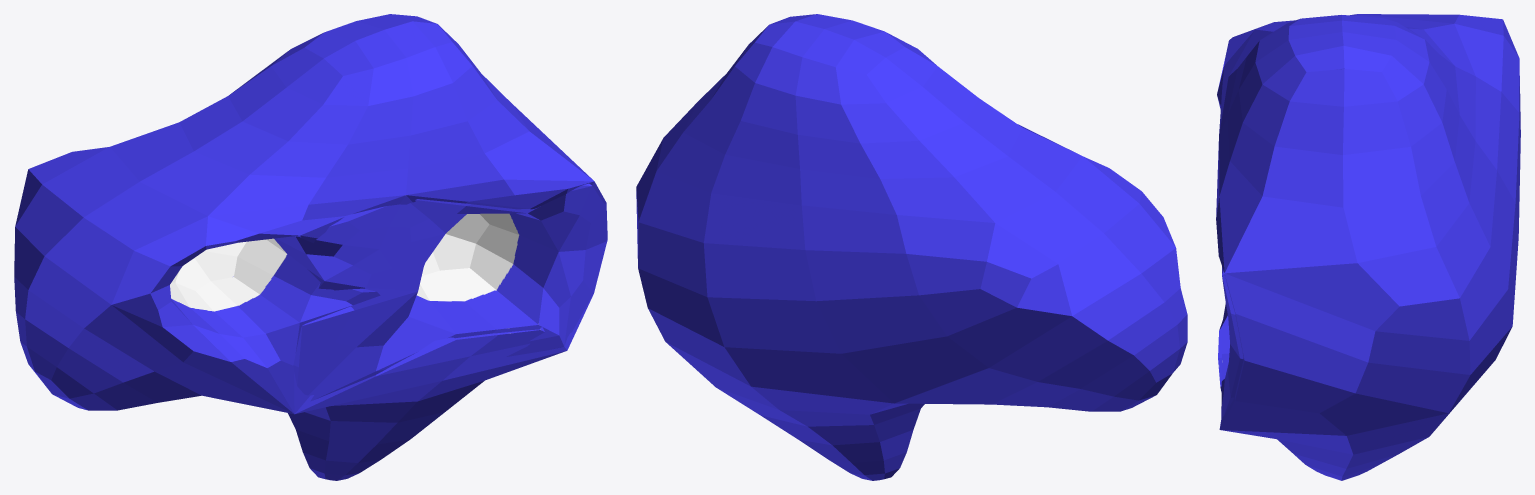
The model's file is enganche.obj.
3 views of the same model, side by side, from view 1: azimuth 30°, elevation 25°; view 2: azimuth 150°, elevation 25°; view 3: azimuth 270°, elevation 25° (orthographic). The views are drawn at different scales.
Parts seen in each view (by area): view 1: Cube_Cube.001; view 2: Cube_Cube.001; view 3: Cube_Cube.001.
Boxes of the visible parts, <box> form: Cube_Cube.001: <box>14,14,607,480</box>; Cube_Cube.001: <box>636,14,1187,480</box>; Cube_Cube.001: <box>1216,14,1520,480</box>.
Bounding box in the file's own units: 6.48 × 5.08 × 2.99.
